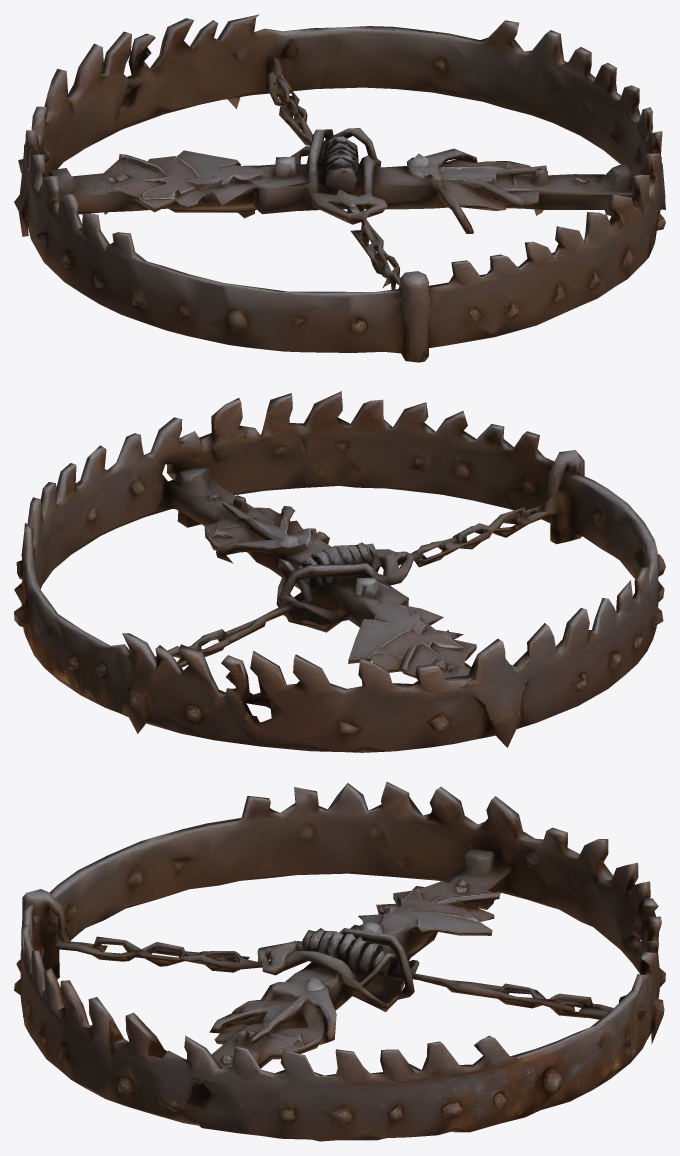
Rendered from bear_trap.glb.
The picture shows the model from 3 angles, top to bottom: view 1: azimuth 30°, elevation 25°; view 2: azimuth 150°, elevation 25°; view 3: azimuth 270°, elevation 25°; orthographic projection.
Visible parts, largest first — view 1: bear_trap; view 2: bear_trap; view 3: bear_trap.
Part boxes in pixels (box(x1,y1,x2,y2)): bear_trap: box(14, 14, 665, 362); bear_trap: box(14, 391, 665, 752); bear_trap: box(14, 782, 665, 1141).
Size of the model in its own units: 0.46 by 0.0844 by 0.4596.
1 material, 1 textured.
